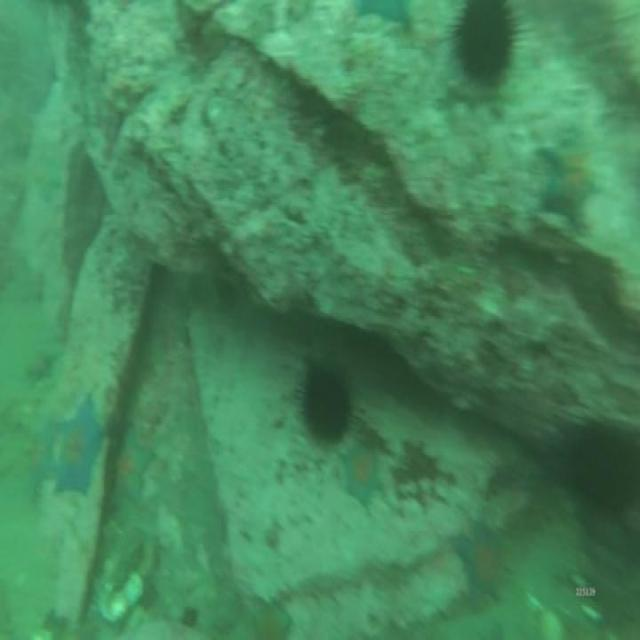echinus: (446, 0, 534, 88), (568, 419, 640, 521), (295, 354, 354, 452)
starfish: (535, 117, 606, 237), (52, 388, 105, 502), (452, 512, 512, 608), (110, 417, 158, 509), (338, 433, 385, 518), (29, 410, 64, 502), (354, 0, 418, 40)
